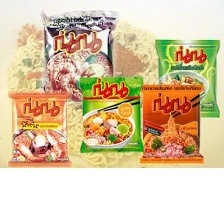snack: (35, 4, 124, 105), (135, 78, 209, 167), (151, 33, 223, 122), (75, 71, 149, 156), (2, 86, 77, 168)
